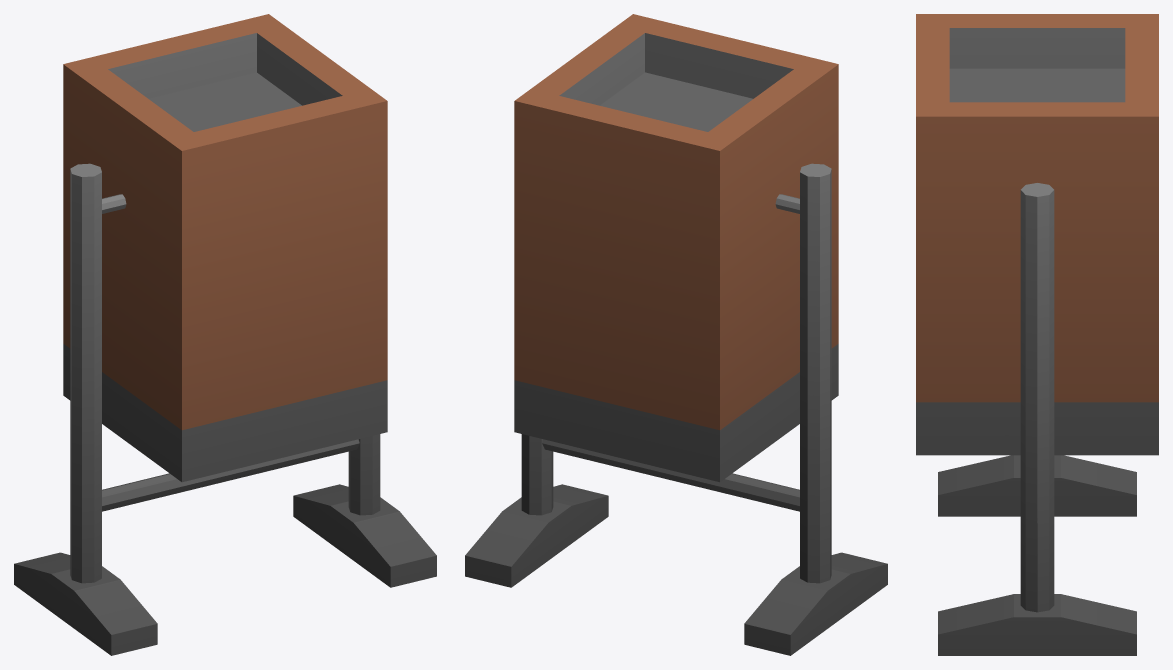
Rendered from trash can.fbx.
3 renders of one model, left to right at view 1: azimuth 30°, elevation 25°; view 2: azimuth 150°, elevation 25°; view 3: azimuth 270°, elevation 25°, orthographic. The views are drawn at different scales.
Parts seen in each view (by area): view 1: trash can; view 2: trash can; view 3: trash can.
Boxes of the visible parts, x1=… form: trash can: x1=14, y1=14, x2=436, y2=655; trash can: x1=465, y1=14, x2=887, y2=655; trash can: x1=916, y1=14, x2=1158, y2=655.
Bounding box in the file's own units: 62.36 × 91.17 × 39.38.
